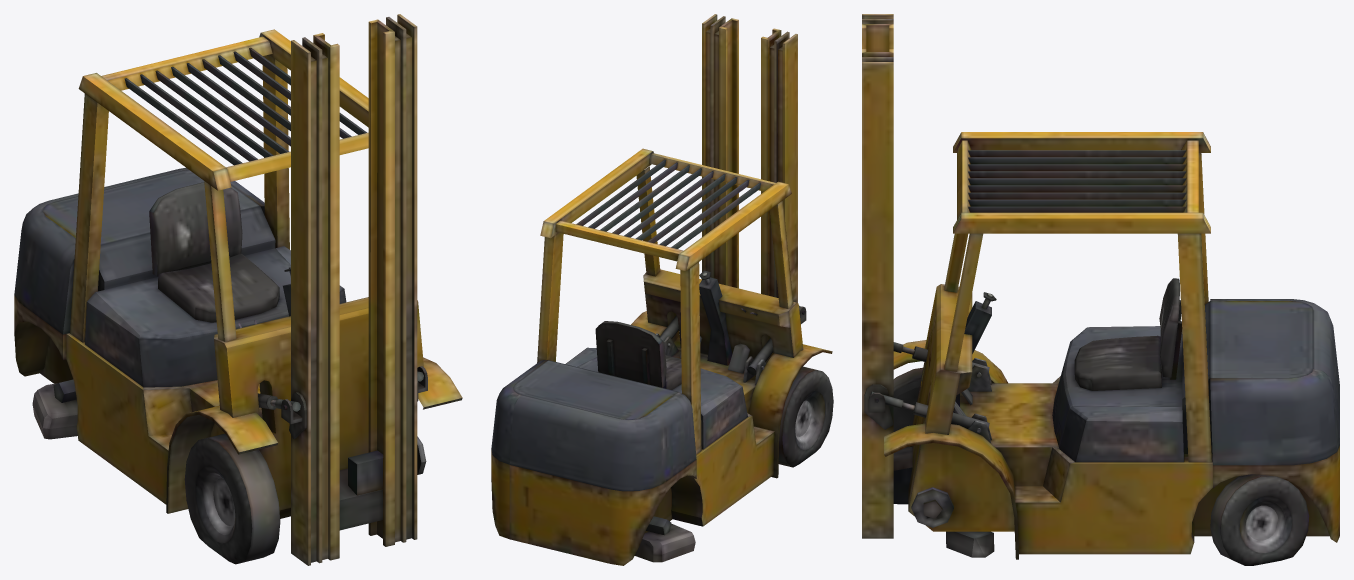
Rendered from forklift_body.glb.
3 views of the same model, side by side, from view 1: azimuth 30°, elevation 25°; view 2: azimuth 150°, elevation 25°; view 3: azimuth 270°, elevation 25° (orthographic). The views are drawn at different scales.
Parts seen in each view (by area): view 1: 0_forklift; view 2: 0_forklift; view 3: 0_forklift.
Part boxes in pixels (bbox=[...]): 0_forklift: bbox=[14, 14, 462, 565]; 0_forklift: bbox=[491, 14, 833, 565]; 0_forklift: bbox=[862, 14, 1339, 565].
Size of the model in its own units: 2.11 by 4.23 by 3.82.
1 material, 1 textured.
